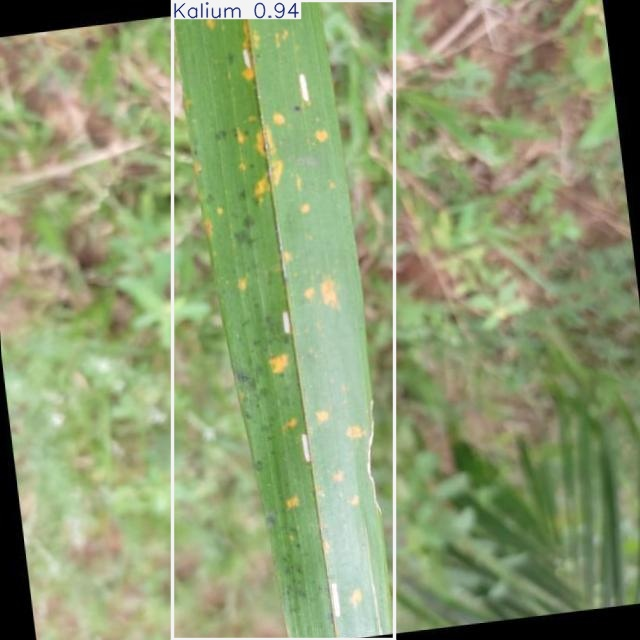Kalium: (172, 1, 394, 639)
